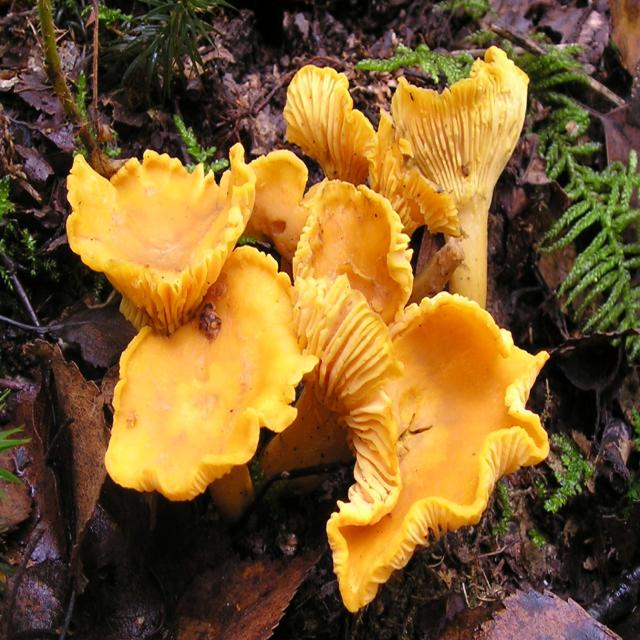chanterelle: (256, 180, 551, 615), (103, 246, 319, 503), (65, 144, 259, 338), (391, 47, 530, 309)
